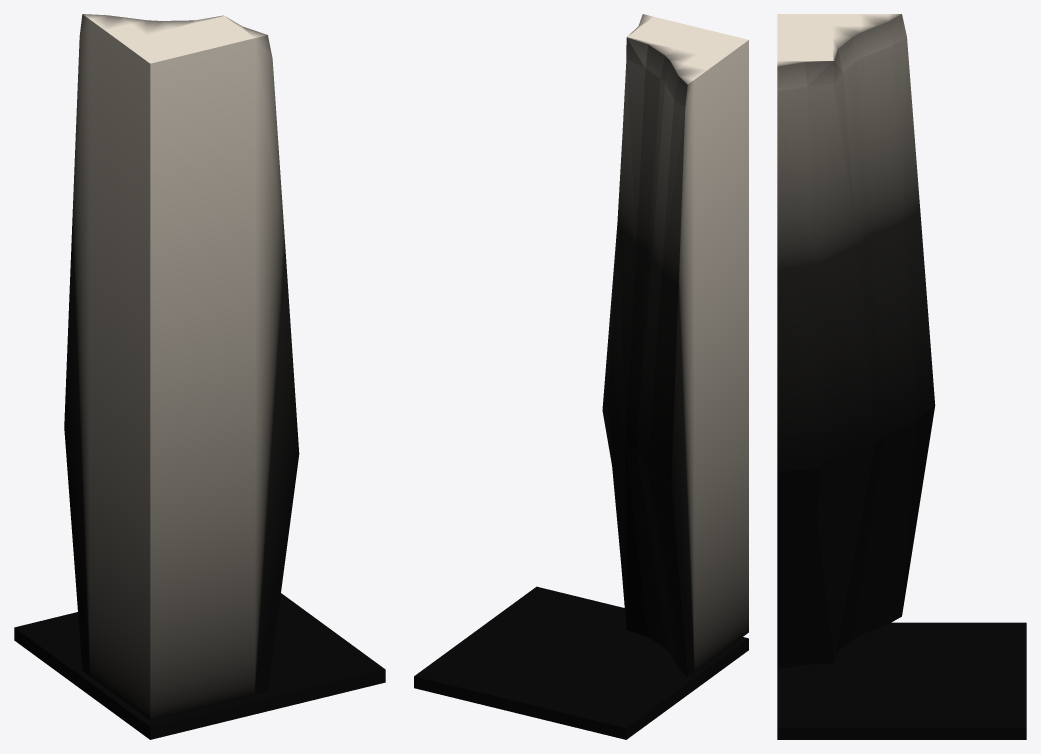
The model's file is SM_VKI_Ground_Cave_OXXX_Q10.fbx.
3 renders of one model, left to right at view 1: azimuth 30°, elevation 25°; view 2: azimuth 150°, elevation 25°; view 3: azimuth 270°, elevation 25°, orthographic. The views are drawn at different scales.
Visible parts, largest first — view 1: SM_VKI_Ground_Cave_OXXX_Q10.001; view 2: SM_VKI_Ground_Cave_OXXX_Q10.001; view 3: SM_VKI_Ground_Cave_OXXX_Q10.001.
Boxes of the visible parts, x1,y1,x2,y2 form: SM_VKI_Ground_Cave_OXXX_Q10.001: (14,14,385,739); SM_VKI_Ground_Cave_OXXX_Q10.001: (414,14,748,739); SM_VKI_Ground_Cave_OXXX_Q10.001: (777,14,1026,739).
Size of the model in its own units: 1.5 by 4.12 by 1.5.
